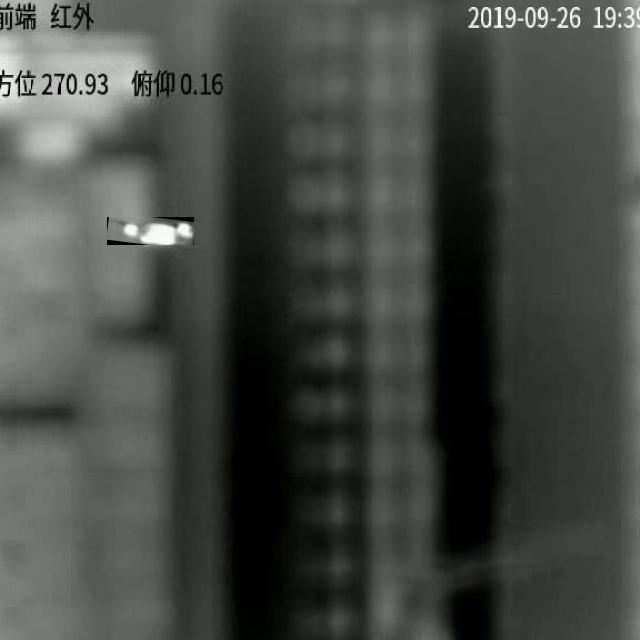drone: (108, 221, 194, 245)
